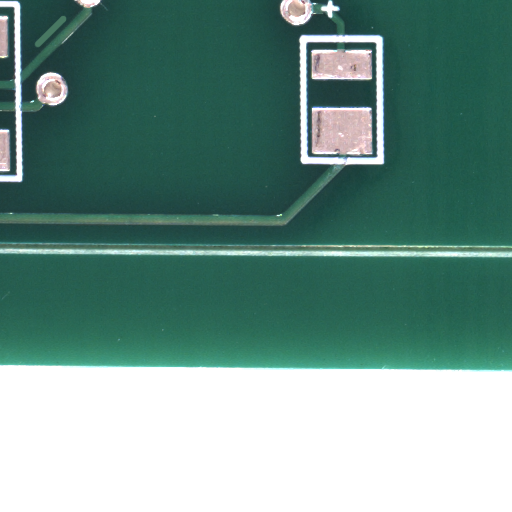Spurious_copper: (50, 31, 83, 64)
